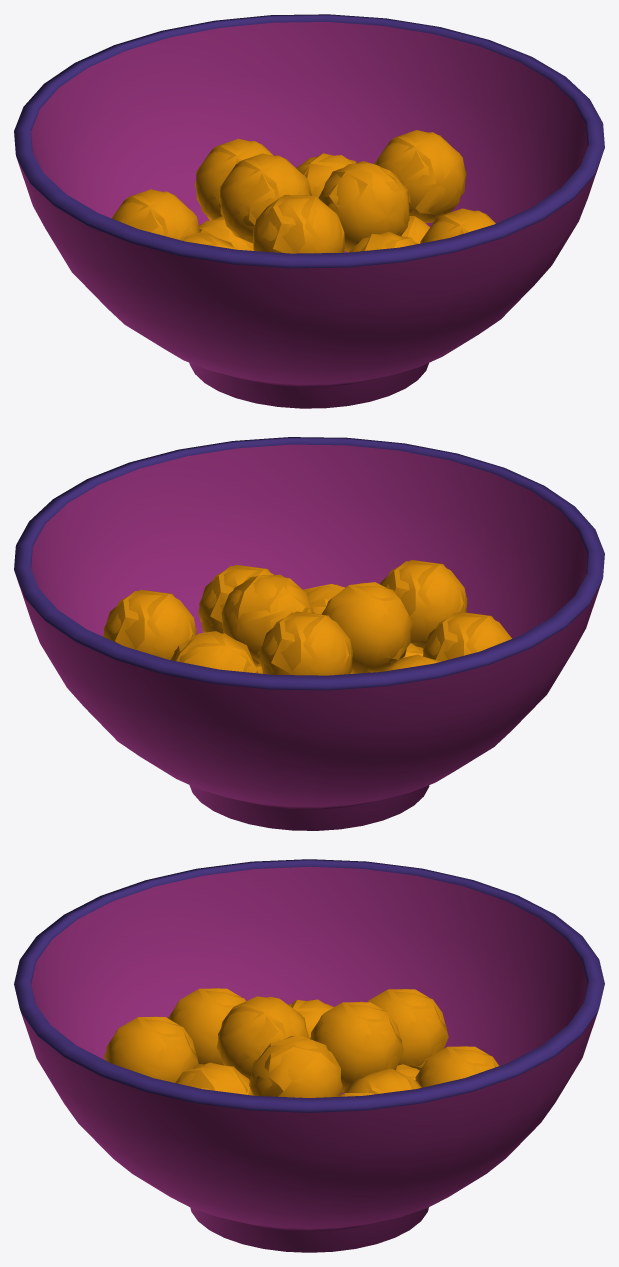
The model's file is uncooked_bitterballen_model.fbx.
3 views of the same model, one above another, from view 1: azimuth 30°, elevation 25°; view 2: azimuth 150°, elevation 25°; view 3: azimuth 270°, elevation 25° (orthographic).
Parts seen in each view (by area): view 1: Mixing_Bowl_UBitterballen, Uncooked_Bitterbal; view 2: Mixing_Bowl_UBitterballen, Uncooked_Bitterbal; view 3: Mixing_Bowl_UBitterballen, Uncooked_Bitterbal.
Boxes of the visible parts, bbox=[...] form: Mixing_Bowl_UBitterballen: bbox=[14, 14, 604, 408]; Uncooked_Bitterbal: bbox=[111, 130, 495, 253]; Mixing_Bowl_UBitterballen: bbox=[14, 437, 604, 830]; Uncooked_Bitterbal: bbox=[103, 560, 511, 675]; Mixing_Bowl_UBitterballen: bbox=[14, 859, 604, 1252]; Uncooked_Bitterbal: bbox=[104, 988, 498, 1097].
Size of the model in its own units: 48.76 by 48.76 by 20.8.
